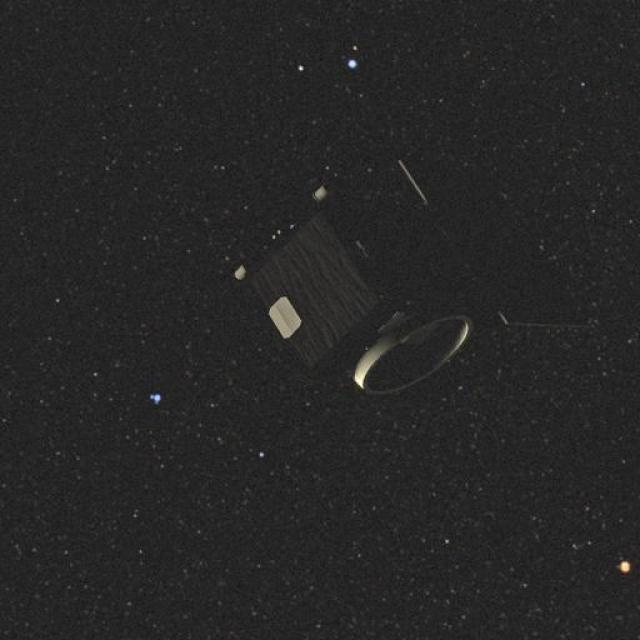proba_3_csc: (226, 141, 557, 407)
